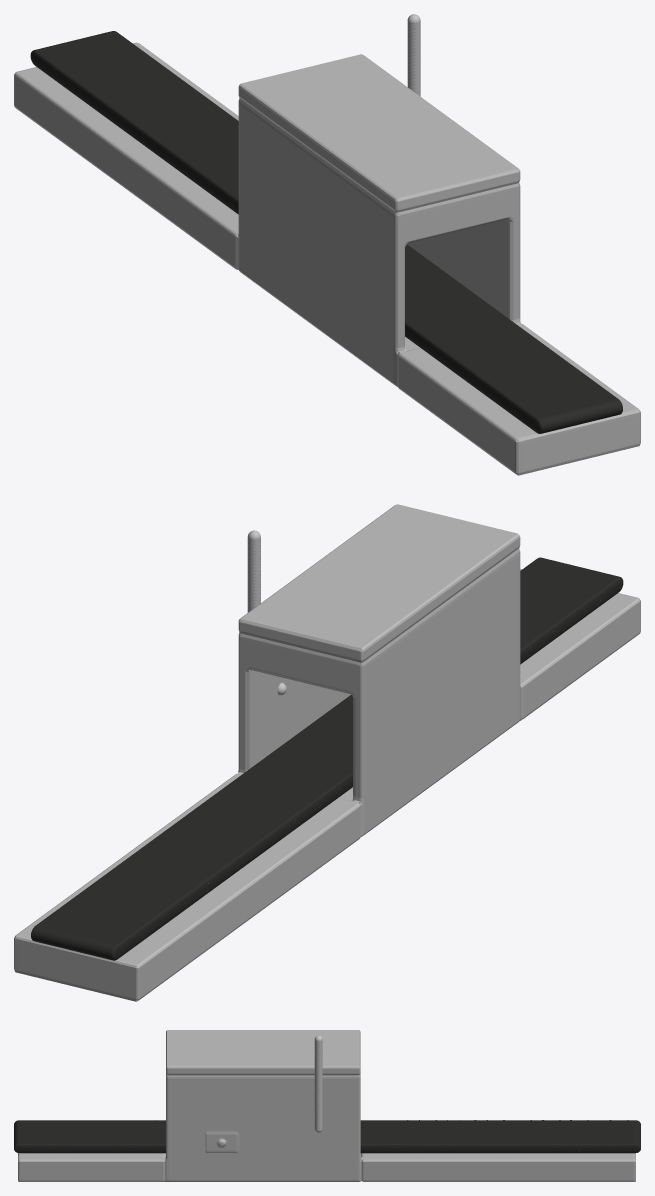
The model's file is fliessband.glb.
3 renders of one model, top to bottom at view 1: azimuth 30°, elevation 25°; view 2: azimuth 150°, elevation 25°; view 3: azimuth 270°, elevation 25°, orthographic. The views are drawn at different scales.
Visible parts, largest first — view 1: fliessband, 272926_23_05_25_12_33_32_1, 272926_23_05_25_12_33_32_3; view 2: fliessband, 272926_23_05_25_12_33_32_1, 272926_23_05_25_12_33_32_3; view 3: fliessband, 272926_23_05_25_12_33_32_1, 272926_23_05_25_12_33_32_3.
Part boxes in pixels (<box>): fliessband: <box>14,42,640,475</box>; 272926_23_05_25_12_33_32_1: <box>30,31,622,433</box>; 272926_23_05_25_12_33_32_3: <box>407,14,420,96</box>; fliessband: <box>14,504,640,1001</box>; 272926_23_05_25_12_33_32_1: <box>31,557,623,960</box>; 272926_23_05_25_12_33_32_3: <box>247,530,286,695</box>; fliessband: <box>18,1030,635,1181</box>; 272926_23_05_25_12_33_32_1: <box>14,1120,640,1153</box>; 272926_23_05_25_12_33_32_3: <box>314,1035,322,1132</box>.
Bounding box in the file's own units: 15.72 × 25.06 × 93.86.
3 materials, 2 textured.
